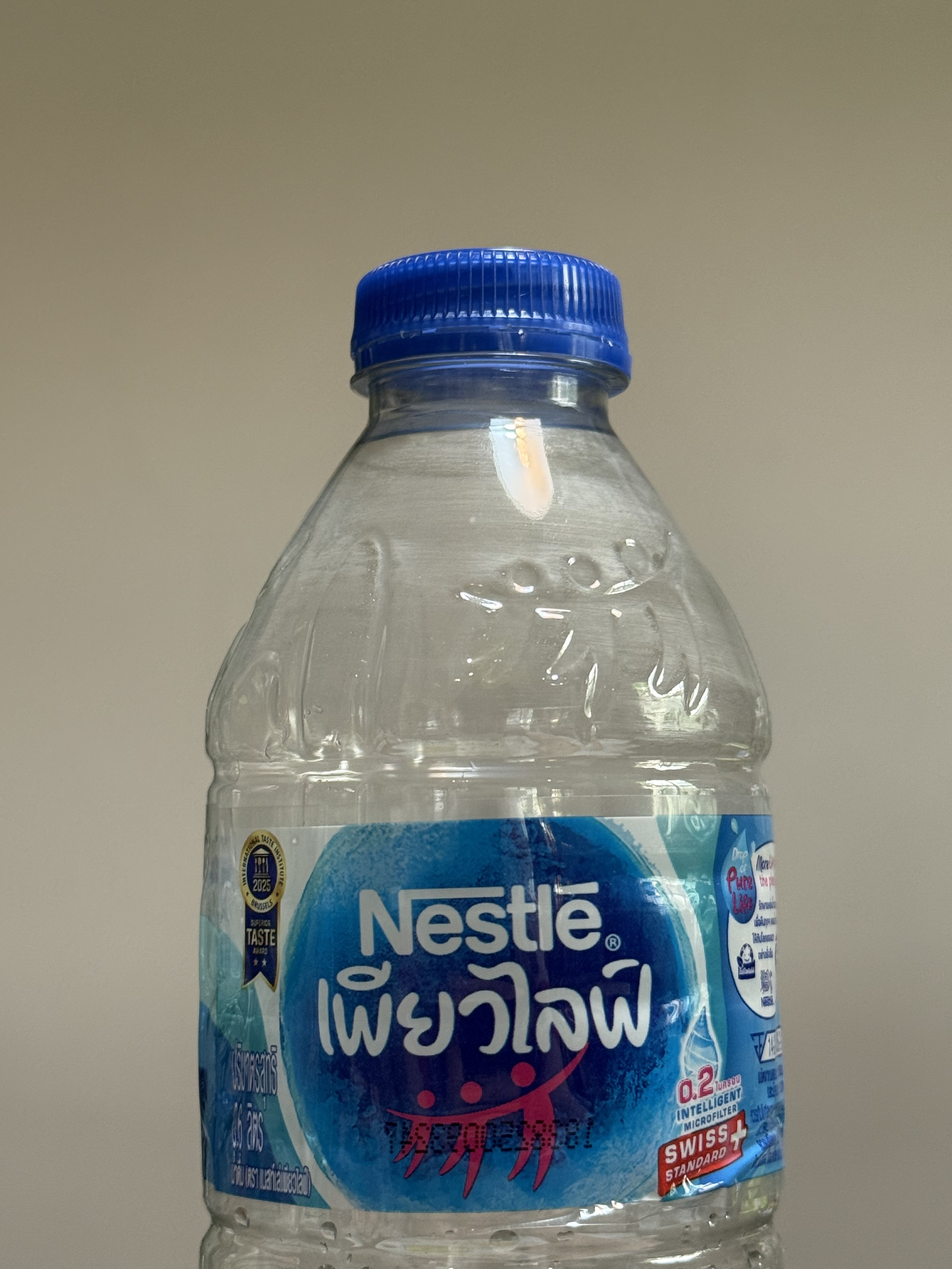closed_cap: (345, 242, 635, 395)
